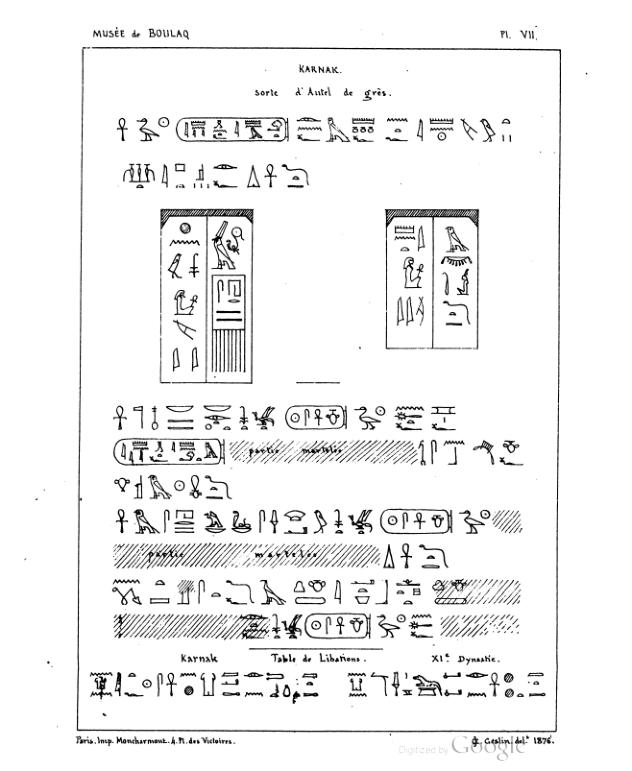circle: (173, 113, 294, 146), (110, 435, 229, 468), (378, 504, 458, 539), (283, 400, 351, 432), (303, 612, 374, 642)
